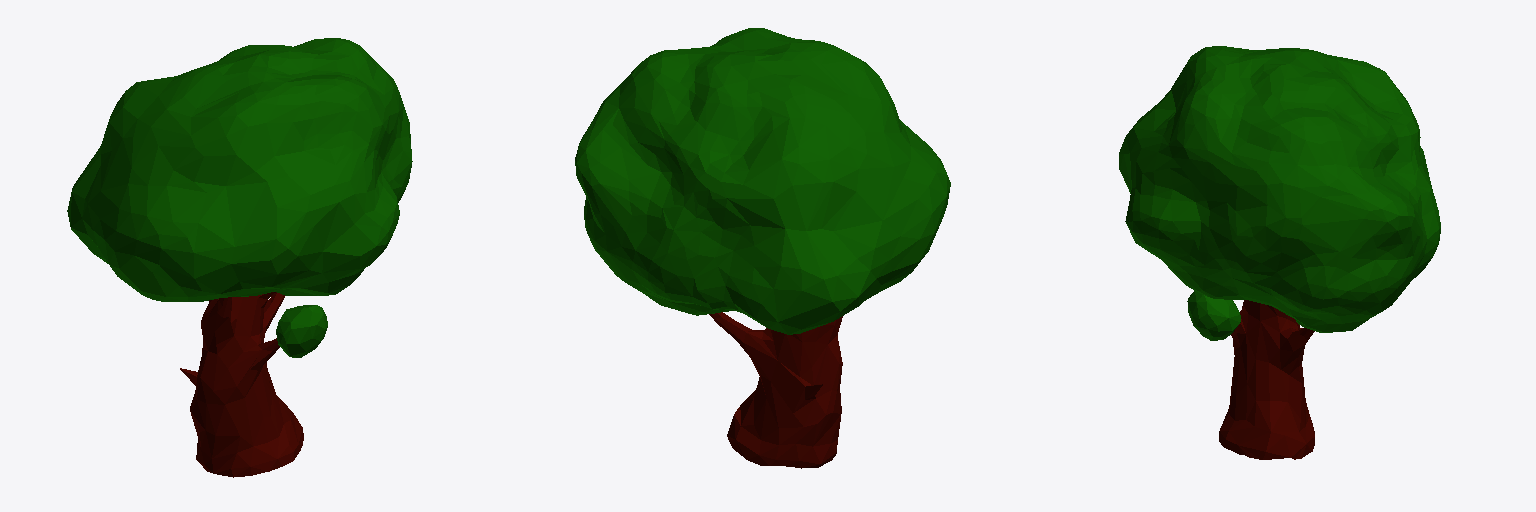
The model's file is arbre.obj.
3 views of the same model, side by side, from view 1: azimuth 30°, elevation 25°; view 2: azimuth 150°, elevation 25°; view 3: azimuth 270°, elevation 25° (orthographic).
Parts seen in each view (by area): view 1: Icosphere.032_Icosphere.038; view 2: Icosphere.032_Icosphere.038; view 3: Icosphere.032_Icosphere.038.
Part boxes in pixels (bbox=[...]): Icosphere.032_Icosphere.038: bbox=[67, 38, 412, 477]; Icosphere.032_Icosphere.038: bbox=[575, 28, 950, 468]; Icosphere.032_Icosphere.038: bbox=[1119, 46, 1440, 459].
Bounding box in the file's own units: 19.91 × 24.33 × 18.08.